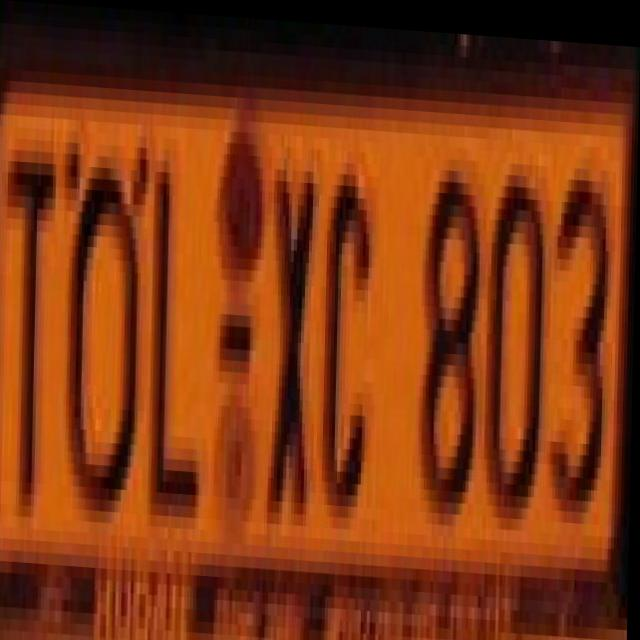0: (485, 143, 549, 501)
3: (547, 147, 614, 527)
8: (419, 139, 480, 520)
C: (326, 146, 381, 525)
L: (147, 135, 204, 515)
T: (0, 115, 55, 518)
X: (260, 153, 321, 533)
